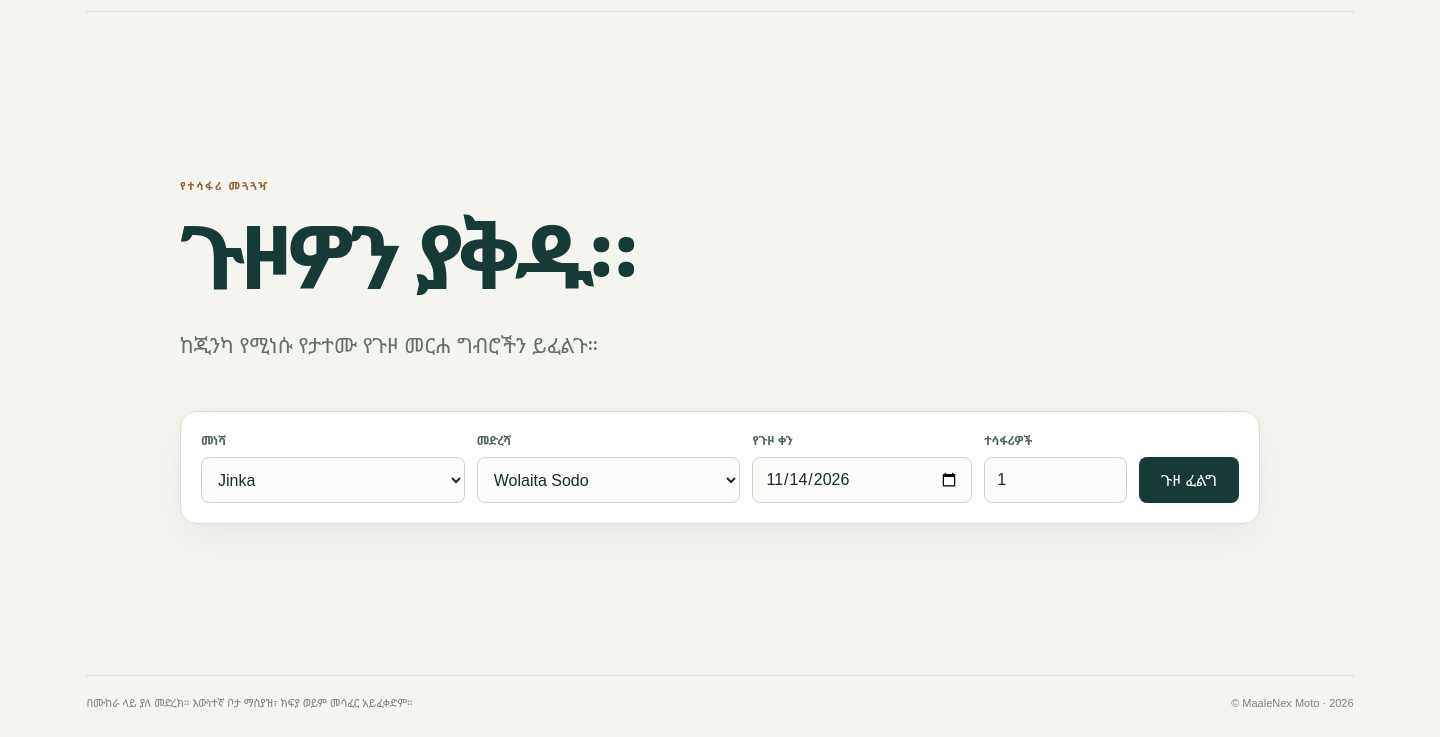
passenger trip search shell › loads and searches synthetic published trips
Step 1. Click the button "ጉዞ ፈልግ" → click(1189, 480), box [1139, 457, 1239, 503]
(page scrolled)
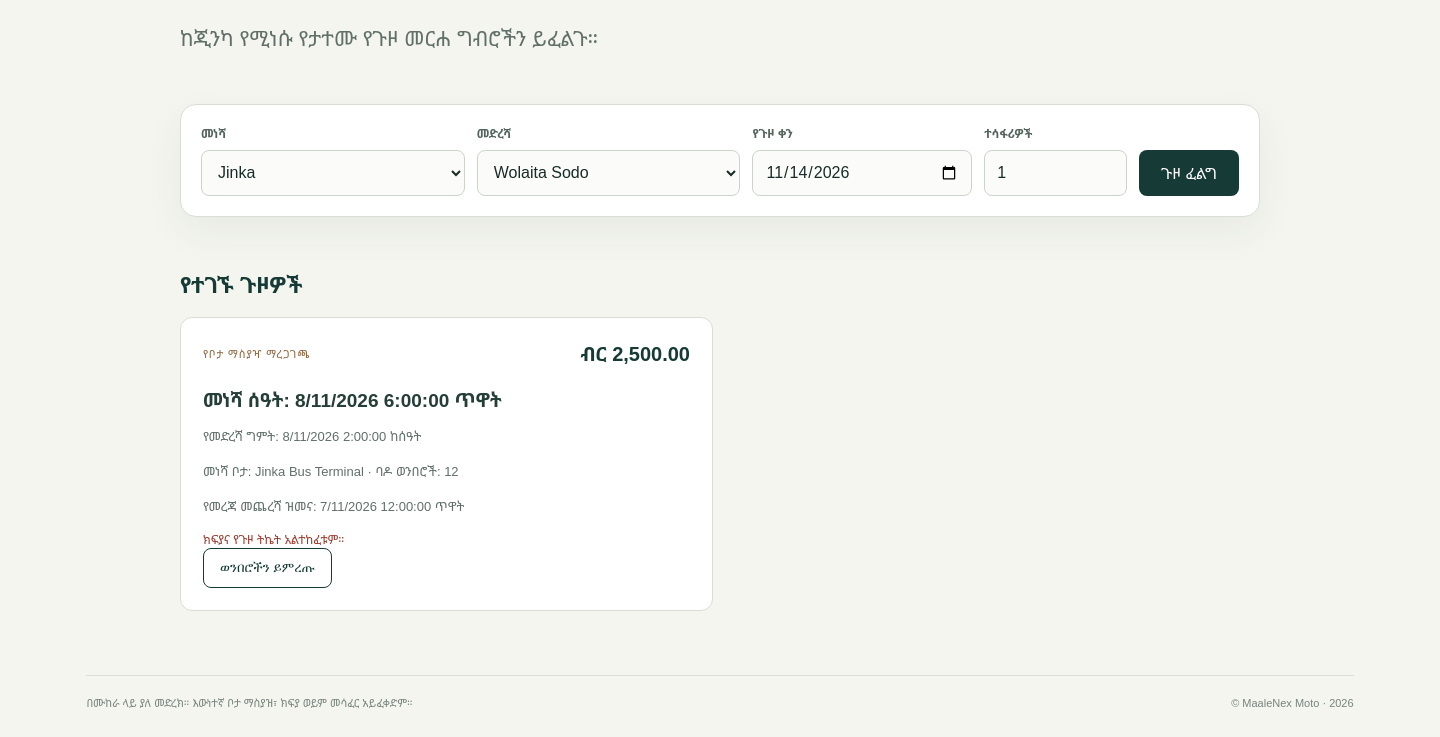
Now the text "መነሻ ቦታ: Jinka Bus Terminal · ባዶ ወንበሮች: 12" is shown, box [203, 464, 459, 479]
Now the text "የመድረሻ ግምት" is shown, box [203, 429, 275, 444]
Now the text "የመረጃ መጨረሻ ዝመና" is shown, box [203, 499, 313, 514]
